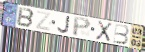B: (16, 7, 36, 29), (113, 24, 130, 46)
J: (57, 16, 71, 34)
P: (73, 16, 92, 38)
X: (95, 20, 114, 43)
Z: (35, 10, 53, 33)
